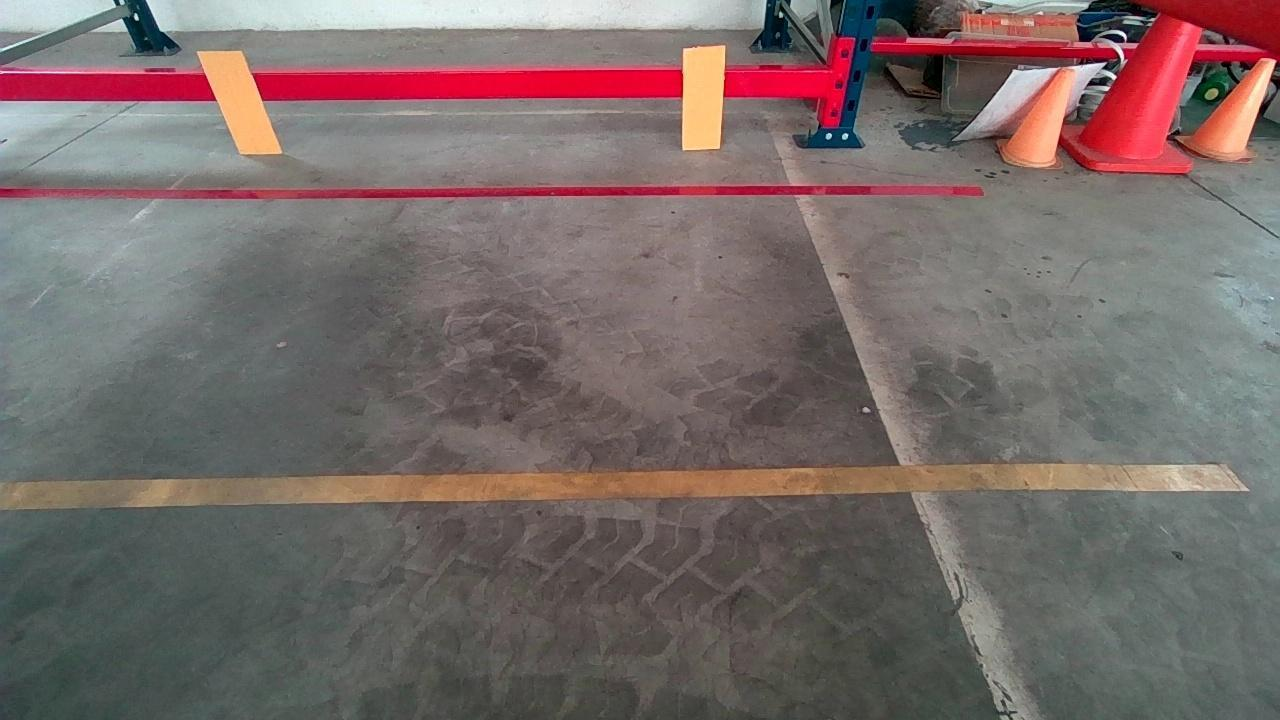h_rack: (6, 59, 827, 105)
orange_strip: (197, 50, 283, 153), (682, 47, 724, 147)
red_line: (1, 175, 985, 199)
yellow_line: (2, 454, 1245, 520)
